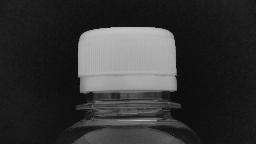Loose Cap: (65, 72, 191, 114)
